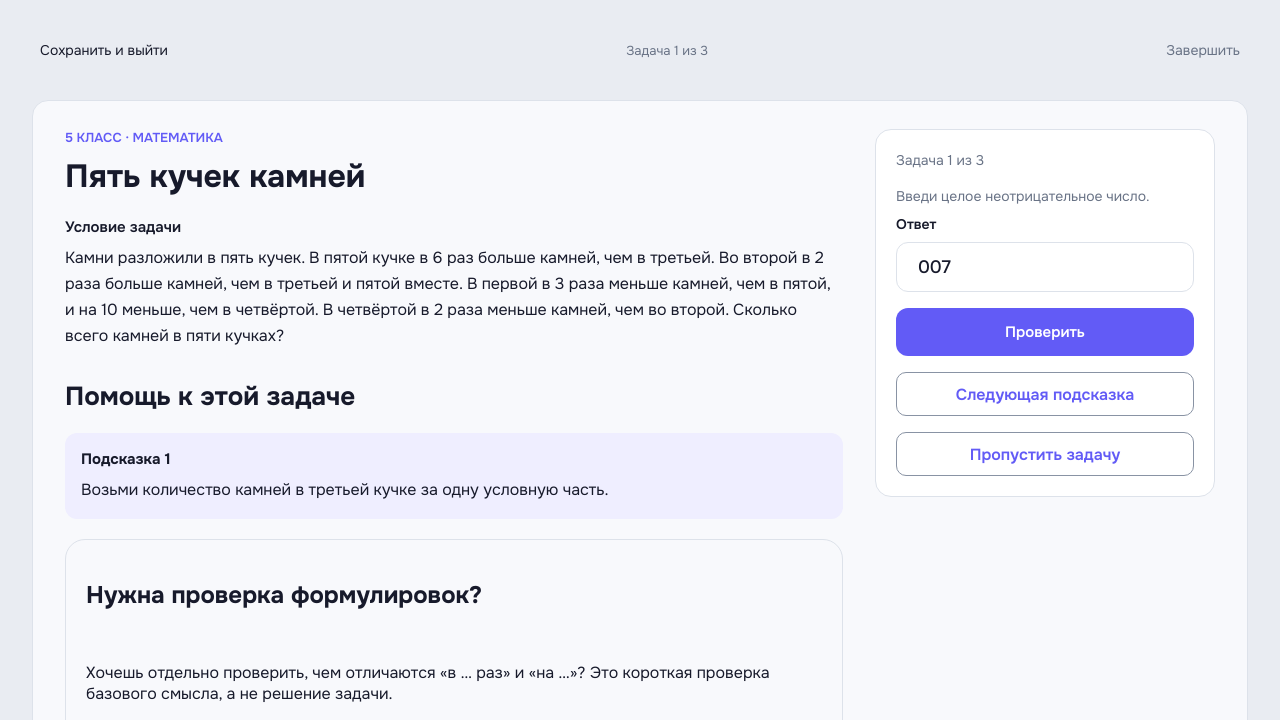
it: Knowledge Support inside the persisted Practice episode › waits for a pending Practice save (failure) before opening support
Click the button "Проверить".
click(1045, 332)  # box 896,308 -> 1194,356
(page scrolled)
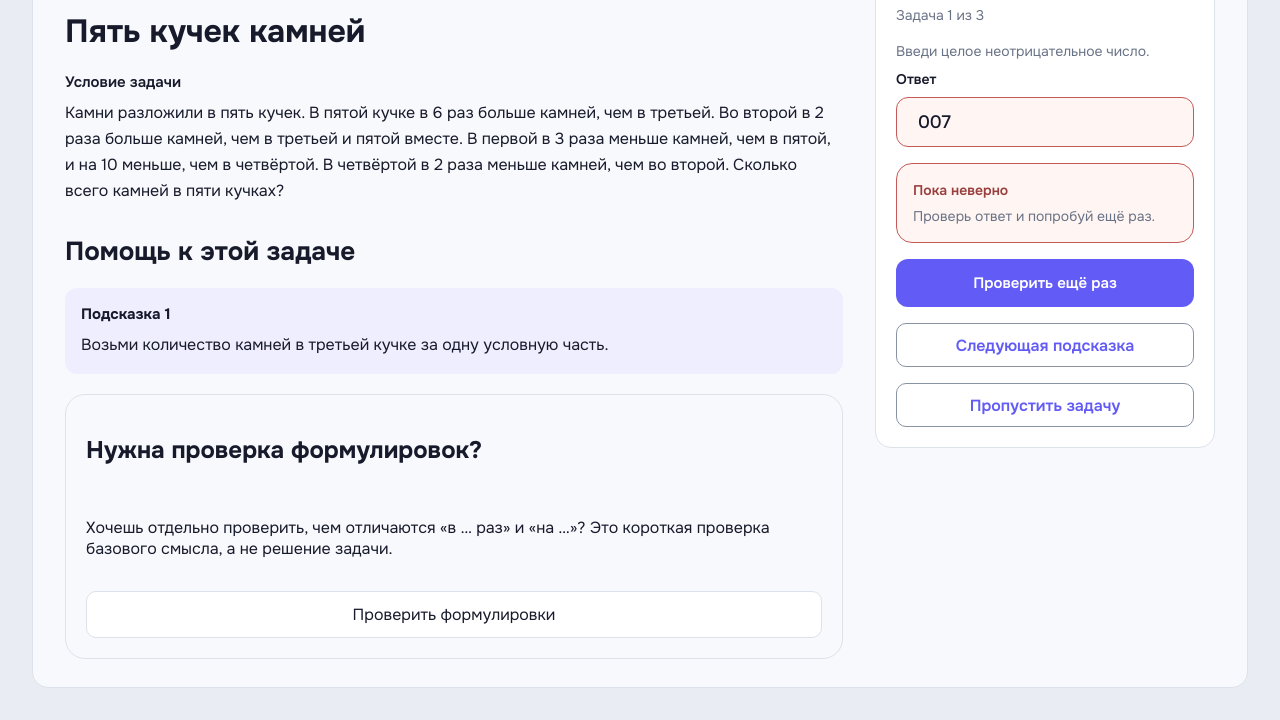
Click the button "Проверить формулировки".
click(454, 614)  # box 86,591 -> 822,638
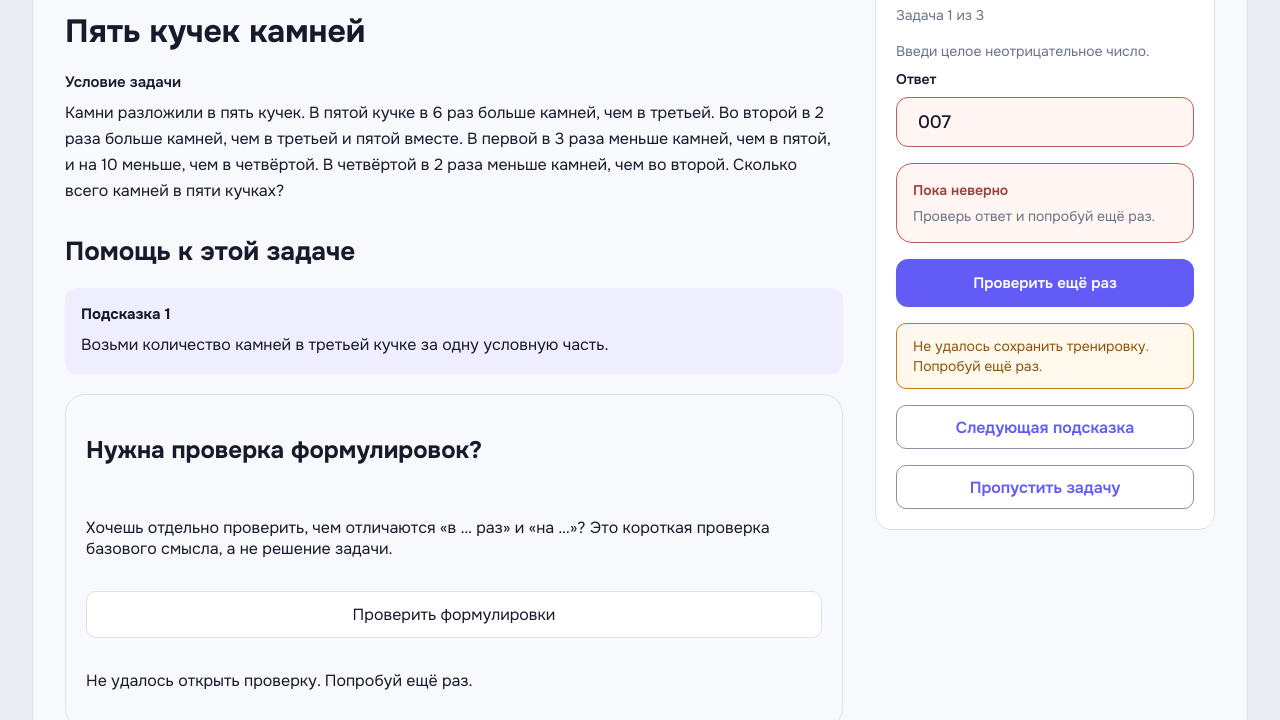
Check: the element that starts with "Сохранить и выйти" shows "Условие задачи", box 65,72 -> 181,92
Check: the element that starts with "Сохранить и выйти" shows "Не удалось сохранить тренировку", box 913,337 -> 1149,375
